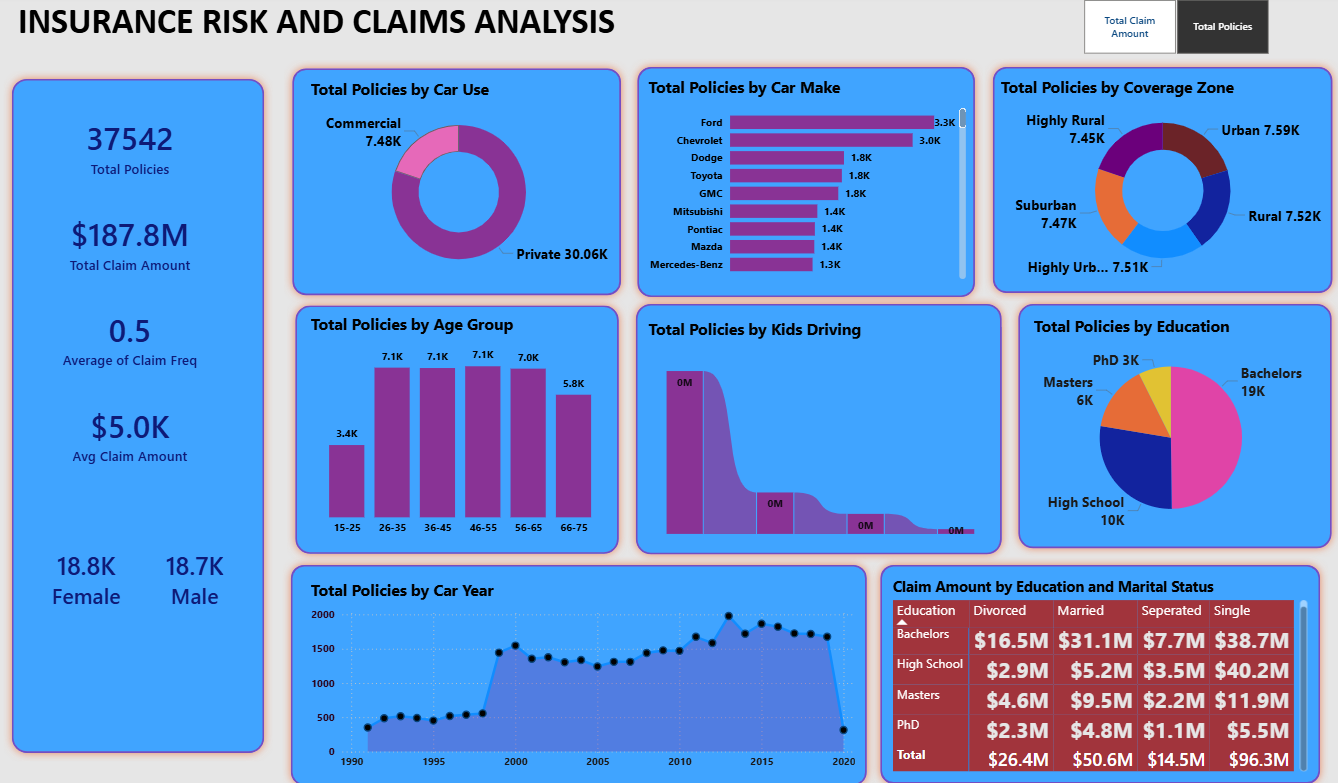

What the dashboard file says about the page in this screenshot:
{"tool":"powerbi","page":{"name":"Page 1","canvas":[1600,950],"ordinal":0},"visuals":[{"type":"textbox","box":[9.4,0,744.1,68.5],"z":0},{"type":"shape","box":[9.5,90.9,319.9,821.5],"z":1000},{"type":"cardVisual","fields":{"Data":["Sheet1.Total Policies","Sheet1.Total Claim Amount","Avg(Sheet1.Claim Freq)","Sheet1.Avg Claim Amount"]},"box":[34.1,117.4,251.7,473.2],"z":2000},{"type":"cardVisual","fields":{"Data":["Sheet1.Female Count","Sheet1.Male Count"]},"box":[36,518.6,272.6,353.9],"z":3000},{"type":"slicer","fields":{"Values":["Select Measure.Select Measure"]},"box":[1268.1,0,268.8,77.6],"z":4000},{"type":"shape","box":[342.6,77.6,410.7,289.6],"z":5000},{"type":"donutChart","fields":{"Y":["Sheet1.Total Claim Amount"],"Category":["Sheet1.Car Use"]},"box":[369.1,100.3,361.5,246.1],"z":6000},{"type":"shape","box":[753.5,77,421.3,293.7],"z":7000},{"type":"clusteredBarChart","fields":{"Y":["Sheet1.Total Claim Amount"],"Category":["Sheet1.Car Make"]},"box":[770.3,98.7,387.6,245.5],"z":8000},{"type":"shape","box":[1174.7,77,423.7,288.9],"z":9000},{"type":"donutChart","fields":{"Y":["Sheet1.Total Claim Amount"],"Category":["Sheet1.Coverage Zone"]},"box":[1189.2,98.7,394.8,245.5],"z":10000},{"type":"shape","box":[346.6,361.1,404.4,315.4],"z":11000},{"type":"clusteredColumnChart","fields":{"Category":["Sheet1.Age Group"],"Y":["Sheet1.Total Claim Amount"]},"box":[368.3,380.3,365.9,272],"z":12000},{"type":"shape","box":[751.1,358.7,455,317.8],"z":13000},{"type":"ribbonChart","fields":{"Category":["Sheet1.Kids Driving"],"Y":["Sheet1.Total Claim Amount"]},"box":[770.3,385.2,418.9,262.4],"z":14000},{"type":"shape","box":[341.5,669.1,704.6,282.2],"z":15000},{"type":"areaChart","fields":{"Category":["Sheet1.Car Year"],"Y":["Sheet1.Total Claim Amount"]},"box":[369.1,694.7,657.2,234.9],"z":16000},{"type":"shape","box":[1206,358.7,392.4,310.5],"z":16500},{"type":"pieChart","fields":{"Category":["Sheet1.Education"],"Y":["Sheet1.Total Claim Amount"]},"box":[1229.6,380.9,335.5,266.5],"z":17000},{"type":"shape","box":[1042.1,669.1,542.8,280.3],"z":17001},{"type":"pivotTable","title":"Claim Amount by Education and Marital Status","fields":{"Rows":["Sheet1.Education"],"Columns":["Sheet1.Marital Status"],"Values":["Sheet1.Total Claim Amount"]},"box":[1061.9,692.8,503.3,236.8],"z":17002}]}

Visuals, with their boxes in screenshot pixels (x1, y1, x2, y2), scaled from the page's 1600x950 canvas onto the 1338x783 screenshot:
textbox: {"x1": 8, "y1": 0, "x2": 630, "y2": 56}
shape: {"x1": 8, "y1": 75, "x2": 275, "y2": 752}
cardVisual - Sheet1.Total Policies x Sheet1.Total Claim Amount: {"x1": 29, "y1": 97, "x2": 239, "y2": 487}
cardVisual - Sheet1.Female Count x Sheet1.Male Count: {"x1": 30, "y1": 427, "x2": 258, "y2": 719}
slicer - Select Measure.Select Measure: {"x1": 1060, "y1": 0, "x2": 1285, "y2": 64}
shape: {"x1": 286, "y1": 64, "x2": 630, "y2": 303}
donutChart - Sheet1.Total Claim Amount x Sheet1.Car Use: {"x1": 309, "y1": 83, "x2": 611, "y2": 286}
shape: {"x1": 630, "y1": 63, "x2": 982, "y2": 306}
clusteredBarChart - Sheet1.Total Claim Amount x Sheet1.Car Make: {"x1": 644, "y1": 81, "x2": 968, "y2": 284}
shape: {"x1": 982, "y1": 63, "x2": 1337, "y2": 302}
donutChart - Sheet1.Total Claim Amount x Sheet1.Coverage Zone: {"x1": 994, "y1": 81, "x2": 1325, "y2": 284}
shape: {"x1": 290, "y1": 298, "x2": 628, "y2": 558}
clusteredColumnChart - Sheet1.Age Group x Sheet1.Total Claim Amount: {"x1": 308, "y1": 313, "x2": 614, "y2": 538}
shape: {"x1": 628, "y1": 296, "x2": 1009, "y2": 558}
ribbonChart - Sheet1.Kids Driving x Sheet1.Total Claim Amount: {"x1": 644, "y1": 317, "x2": 994, "y2": 534}
shape: {"x1": 286, "y1": 551, "x2": 875, "y2": 782}
areaChart - Sheet1.Car Year x Sheet1.Total Claim Amount: {"x1": 309, "y1": 573, "x2": 858, "y2": 766}
shape: {"x1": 1009, "y1": 296, "x2": 1337, "y2": 552}
pieChart - Sheet1.Education x Sheet1.Total Claim Amount: {"x1": 1028, "y1": 314, "x2": 1309, "y2": 534}
shape: {"x1": 871, "y1": 551, "x2": 1325, "y2": 782}
"Claim Amount by Education and Marital Status" pivotTable: {"x1": 888, "y1": 571, "x2": 1309, "y2": 766}
